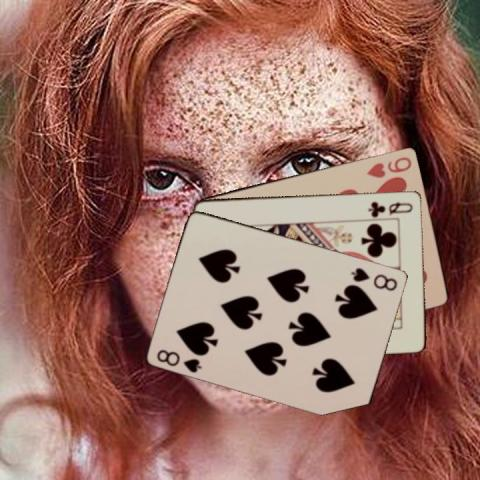8s: (348, 264, 399, 292), (154, 346, 203, 374)
9h: (364, 154, 413, 180)
Qc: (365, 198, 414, 217)
